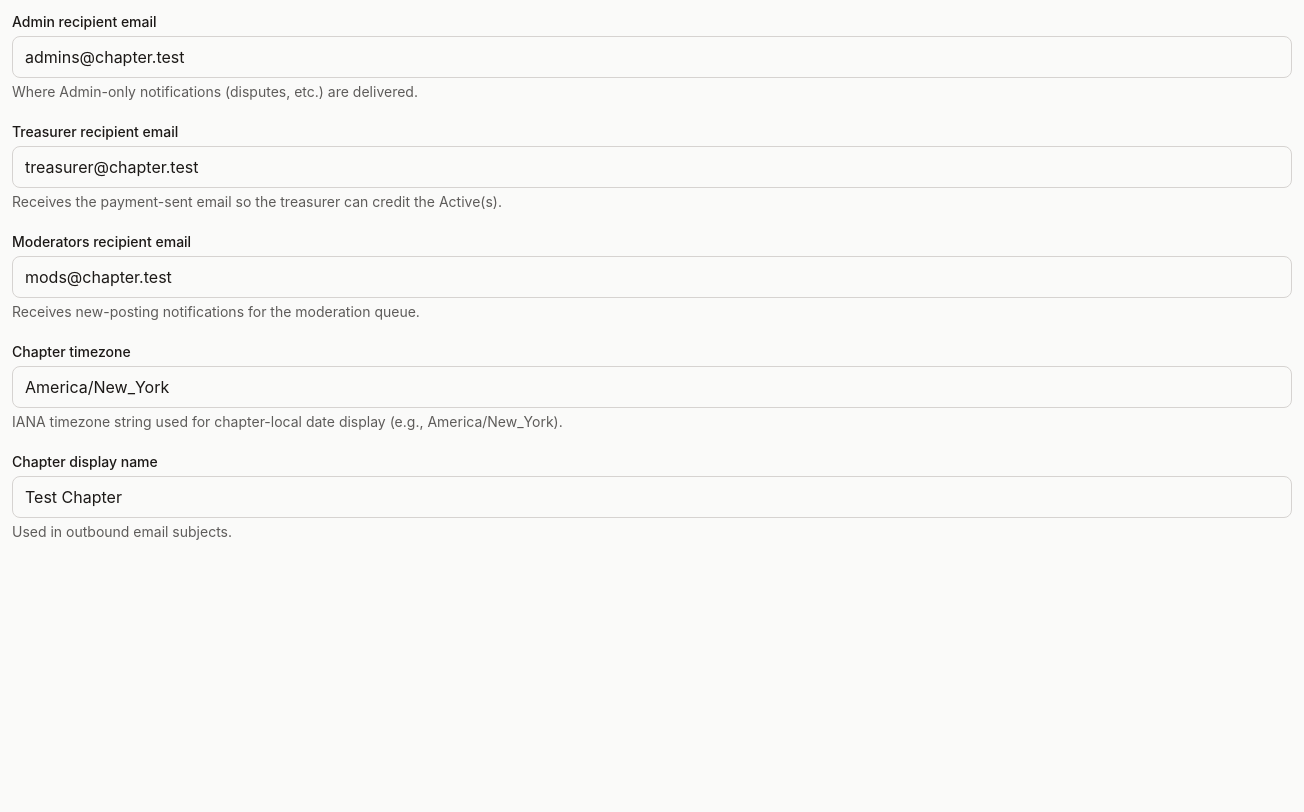
Test case: <SettingsForm> › shows a Saved. toast once the mutation succeeds
Replace the text in the field with test id "settings-input-chapter_display_name" with "Renamed chapter" at (652,497), box left=12, top=476, right=1292, bottom=518
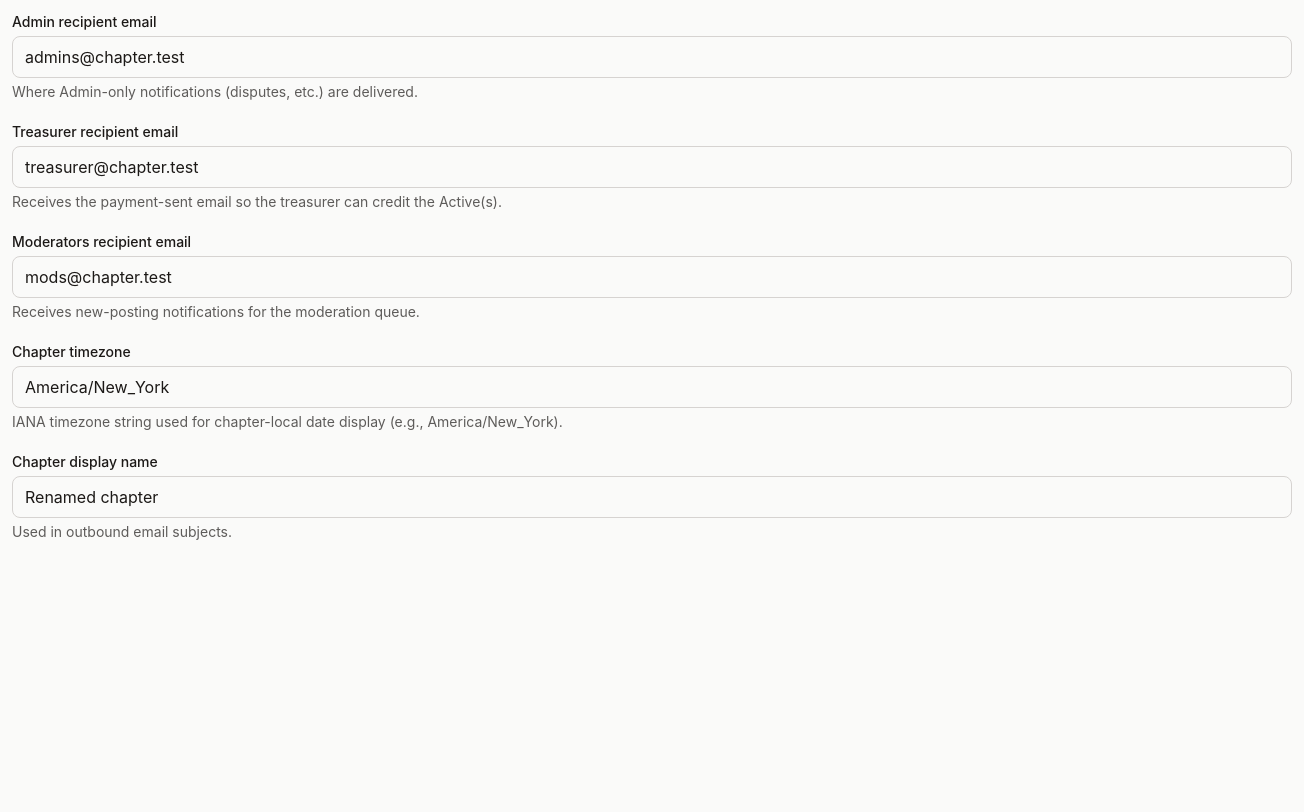
Leave the field with test id "settings-input-chapter_display_name", box left=12, top=476, right=1292, bottom=518
Wait 250 ms
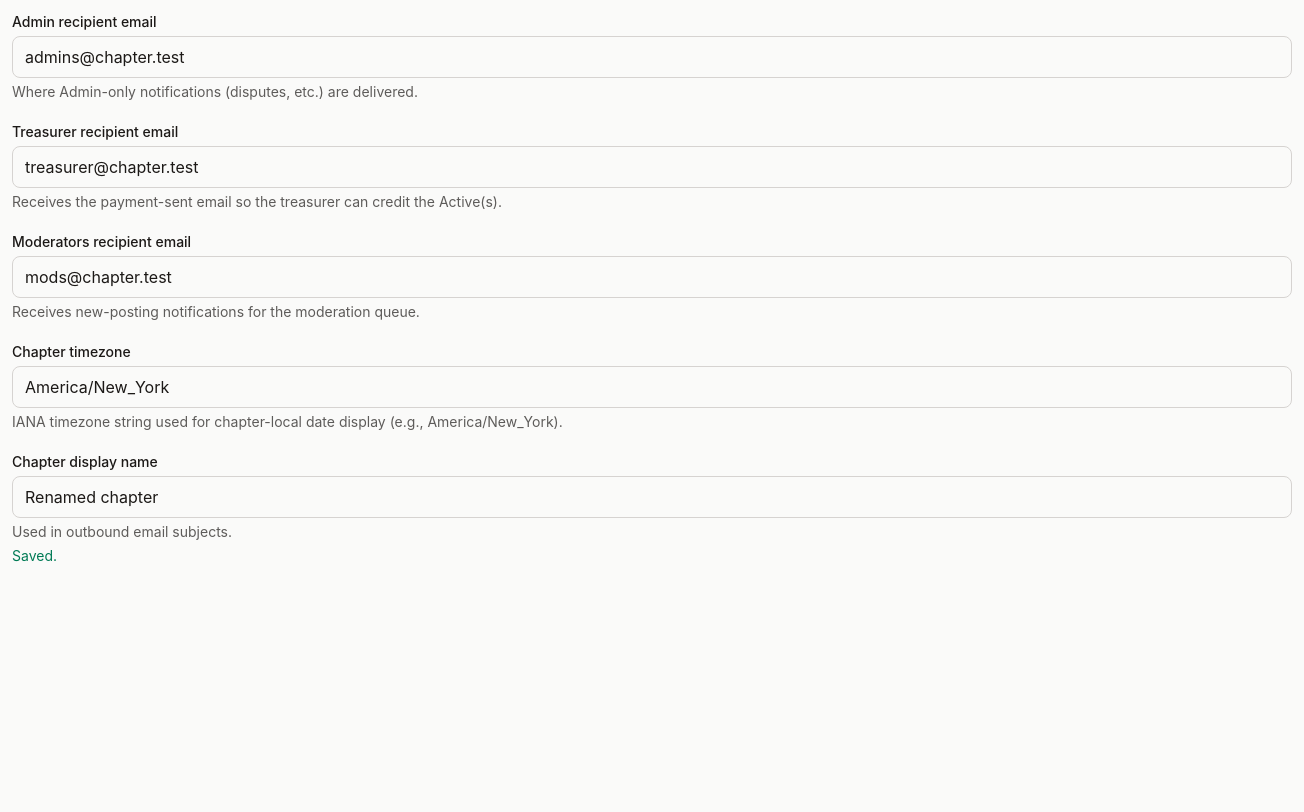
Expected: the message "Saved." is shown, left=12, top=547, right=57, bottom=564
